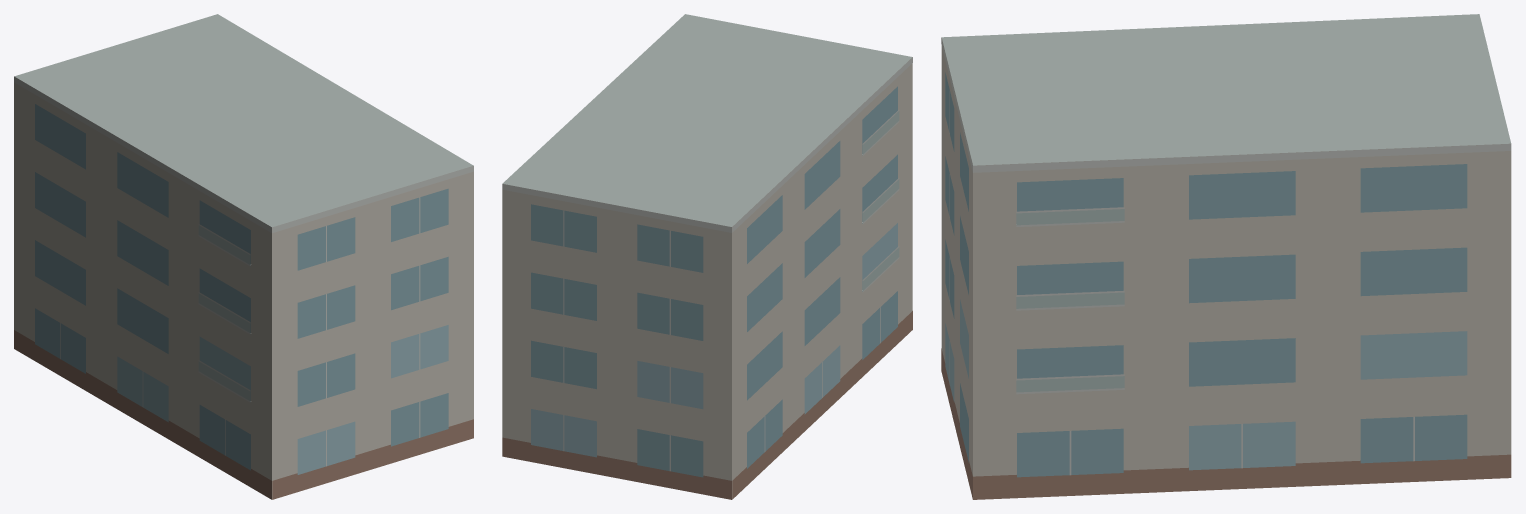
The model's file is survey-upis-32884529.glb.
3 renders of one model, left to right at view 1: azimuth 30°, elevation 25°; view 2: azimuth 150°, elevation 25°; view 3: azimuth 270°, elevation 25°, orthographic. The views are drawn at different scales.
Parts seen in each view (by area): view 1: survey-upis-32884529.tmp; view 2: survey-upis-32884529.tmp; view 3: survey-upis-32884529.tmp.
Part boxes in pixels (<box>): survey-upis-32884529.tmp: <box>14,14,473,499</box>; survey-upis-32884529.tmp: <box>502,14,912,499</box>; survey-upis-32884529.tmp: <box>941,14,1511,499</box>.
Size of the model in its own units: 11 by 11.3 by 17.47.
